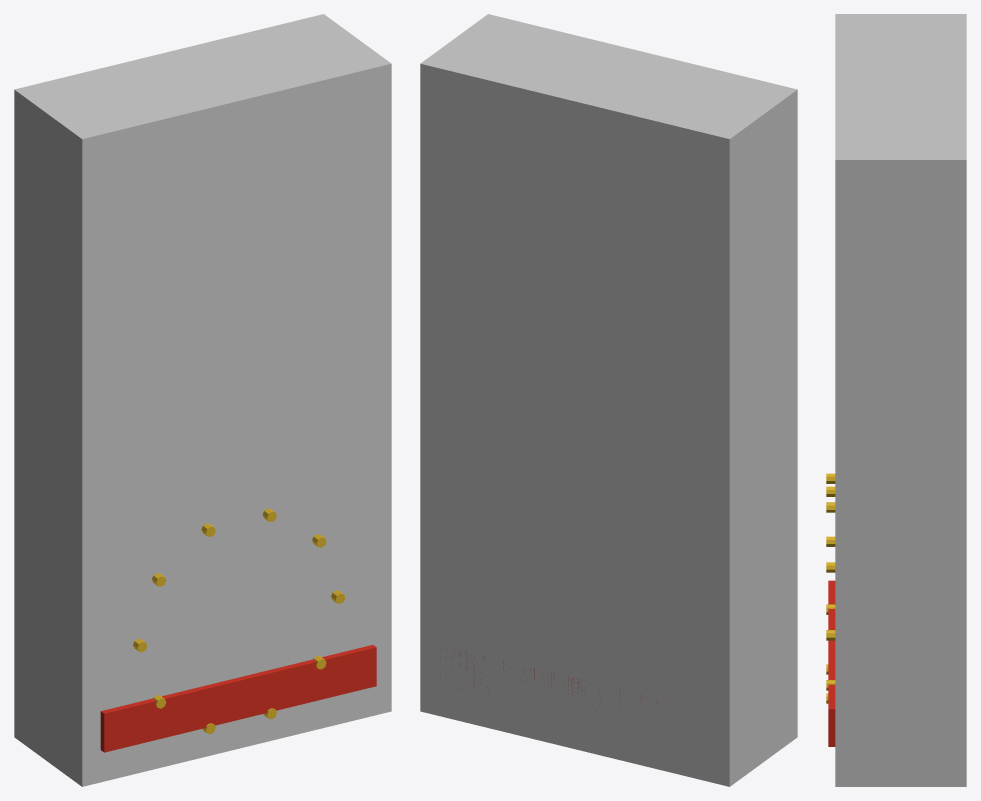
Rendered from blast_door.obj.
The picture shows the model from 3 angles, left to right: view 1: azimuth 30°, elevation 25°; view 2: azimuth 150°, elevation 25°; view 3: azimuth 270°, elevation 25°; orthographic projection. The views are drawn at different scales.
Parts seen in each view (by area): view 1: blast_door; view 2: blast_door; view 3: blast_door.
Part boxes in pixels (bbox=[...]): blast_door: bbox=[14, 14, 391, 786]; blast_door: bbox=[420, 14, 797, 786]; blast_door: bbox=[826, 14, 966, 786].
Size of the model in its own units: 1 by 2 by 0.4056.
